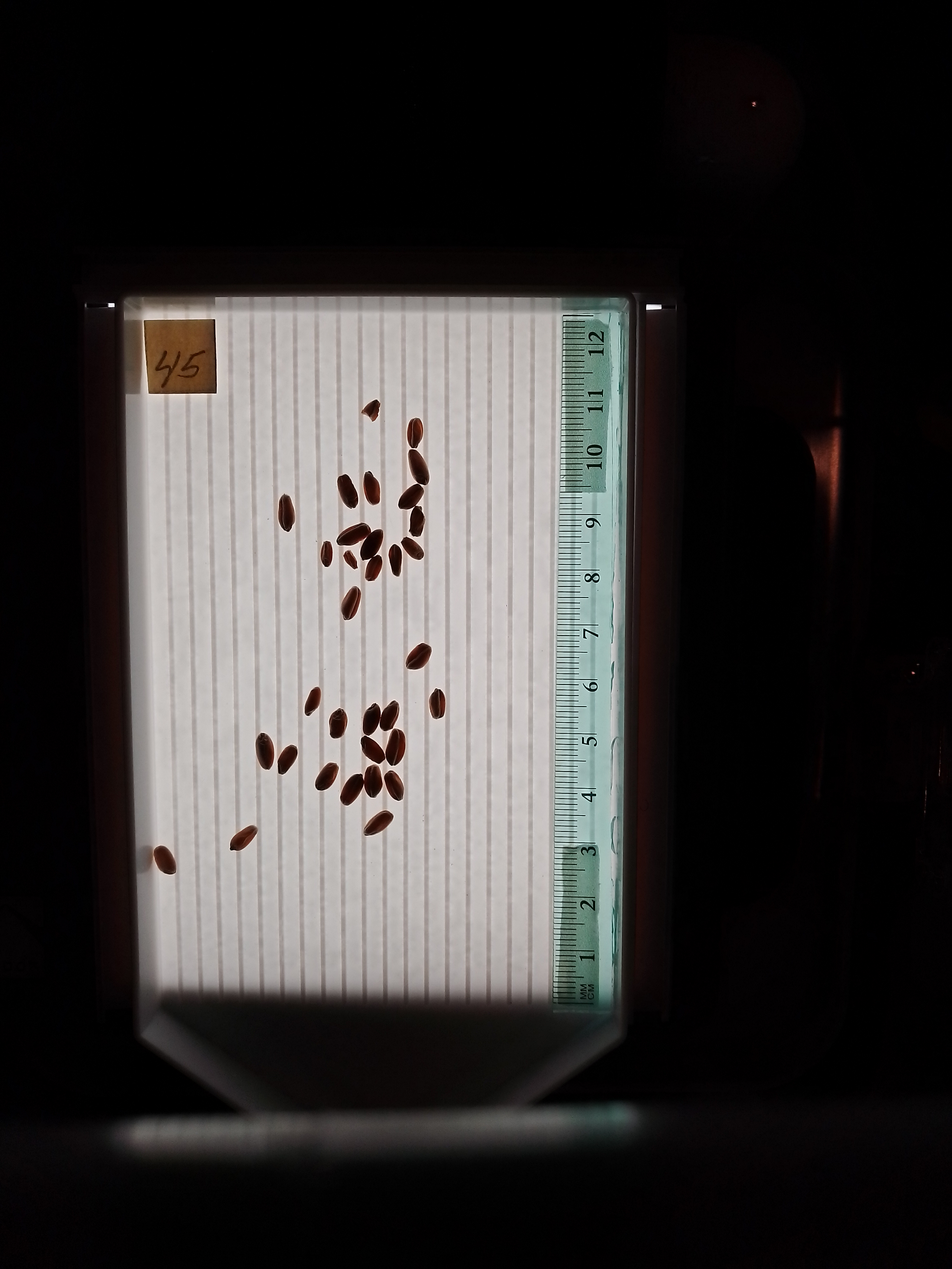seed mask: (230, 825, 257, 852), (364, 811, 393, 836), (337, 475, 358, 509), (338, 524, 370, 546), (341, 774, 363, 805), (409, 450, 429, 484), (406, 643, 431, 670), (360, 530, 383, 559), (387, 731, 406, 765), (315, 763, 338, 791), (256, 734, 274, 769), (341, 587, 360, 620), (154, 846, 176, 874), (278, 496, 295, 532), (399, 485, 423, 510), (361, 737, 384, 763), (363, 472, 381, 505), (380, 702, 400, 731), (277, 745, 297, 774), (329, 709, 348, 739), (364, 766, 382, 797), (362, 704, 380, 734), (385, 773, 404, 801), (402, 537, 423, 560), (430, 689, 446, 719), (407, 418, 424, 446), (304, 687, 321, 715), (365, 556, 382, 581), (410, 508, 425, 536), (389, 545, 402, 575), (321, 542, 333, 566)
